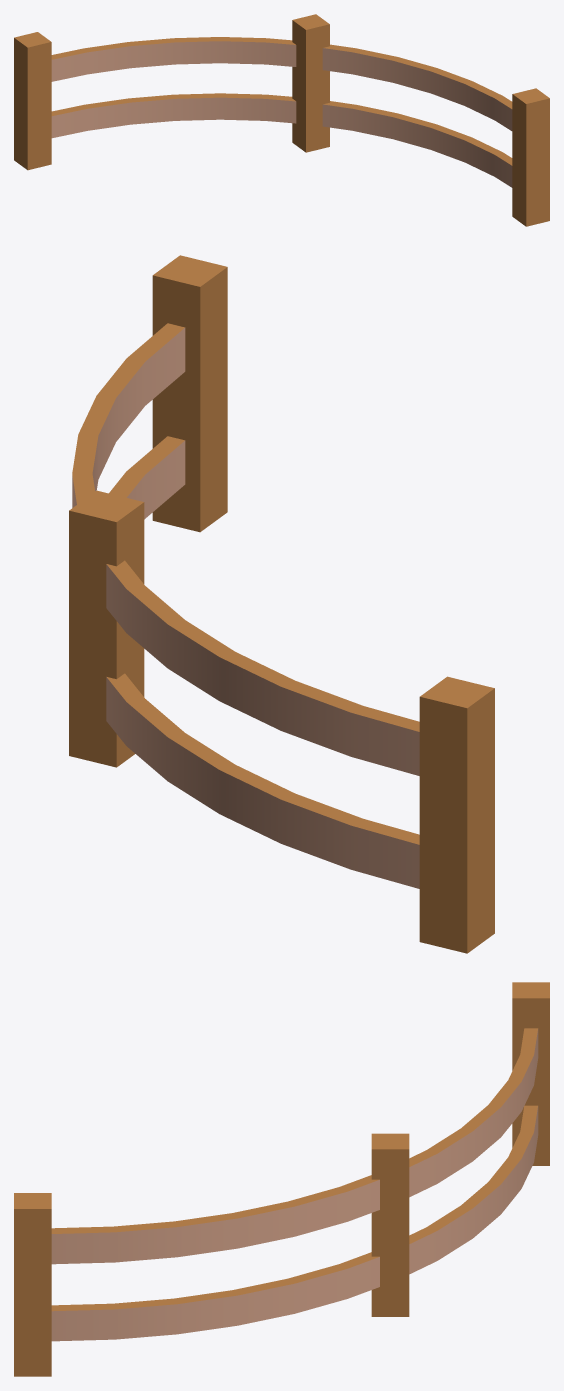
File: fence_bendCenter.glb
The picture shows the model from 3 angles, top to bottom: view 1: azimuth 30°, elevation 25°; view 2: azimuth 150°, elevation 25°; view 3: azimuth 270°, elevation 25°; orthographic projection. The views are drawn at different scales.
Visible parts, largest first — view 1: fence_bendCenter; view 2: fence_bendCenter; view 3: fence_bendCenter.
Part boxes in pixels (box(x1,y1,x2,y2)): fence_bendCenter: box(14, 14, 549, 226); fence_bendCenter: box(69, 255, 494, 953); fence_bendCenter: box(14, 982, 549, 1376).
Bounding box in the file's own units: 1 × 0.345 × 1.
